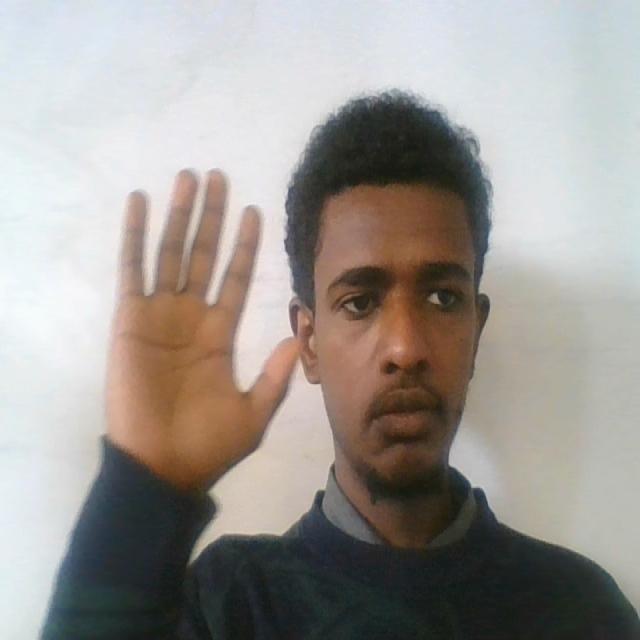hello: (107, 157, 301, 494)
